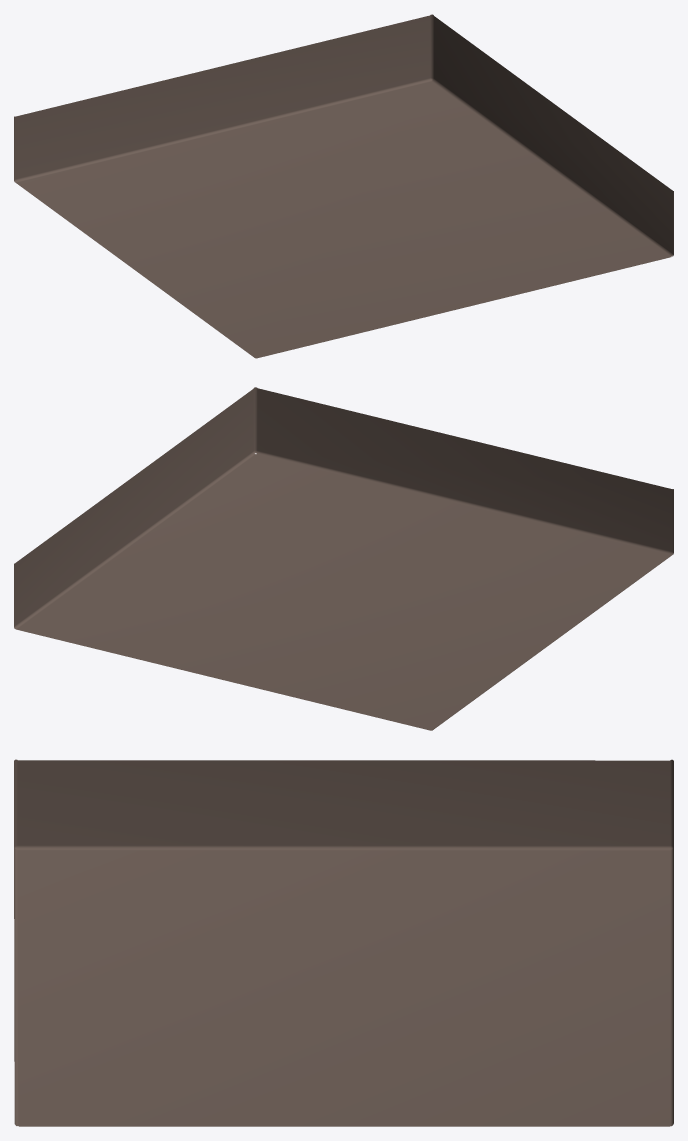
Rendered from vasca-flip.gltf.
3 views of the same model, one above another, from view 1: azimuth 30°, elevation 25°; view 2: azimuth 150°, elevation 25°; view 3: azimuth 270°, elevation 25° (orthographic). The views are drawn at different scales.
Parts seen in each view (by area): view 1: Node; view 2: Node; view 3: Node.
Part boxes in pixels (x1,y1,x2,y2): Node: (14, 14, 673, 358); Node: (14, 387, 673, 730); Node: (14, 759, 673, 1126).
Size of the model in its own units: 30.38 by 4.56 by 30.38.
